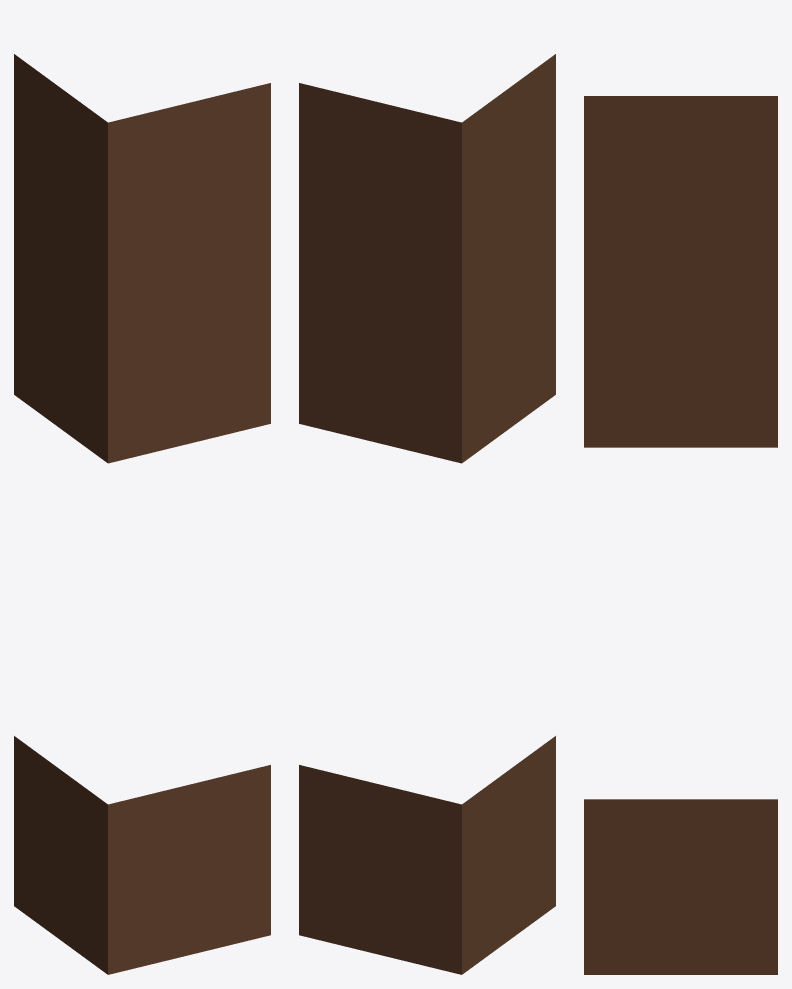
File: tree-pine-1p2-6b452e.gltf
3 renders of one model, left to right at view 1: azimuth 30°, elevation 25°; view 2: azimuth 150°, elevation 25°; view 3: azimuth 270°, elevation 25°, orthographic. The views are drawn at different scales.
Visible parts, largest first — view 1: tree-pine-1p2-6b452e; view 2: tree-pine-1p2-6b452e; view 3: tree-pine-1p2-6b452e.
Boxes of the visible parts, x1,y1,x2,y2 form: tree-pine-1p2-6b452e: (14,54,270,974); tree-pine-1p2-6b452e: (299,54,555,974); tree-pine-1p2-6b452e: (584,96,777,974).
Size of the model in its own units: 1 by 5 by 1.
